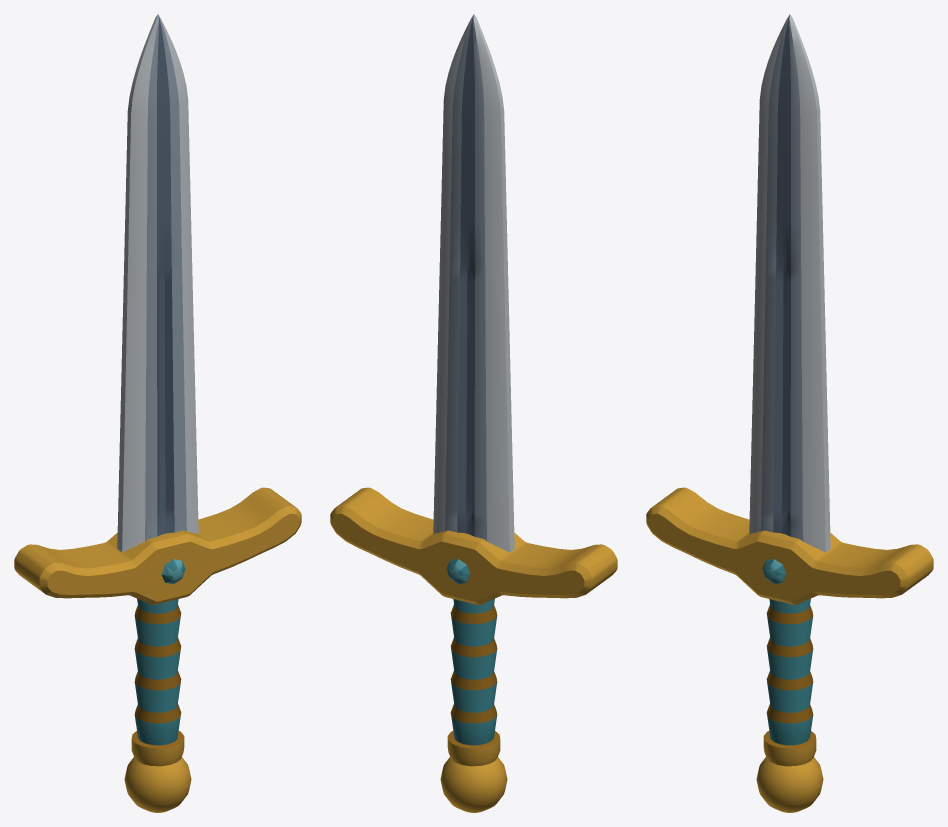
The model's file is Longsword_23.glb.
The picture shows the model from 3 angles, left to right: view 1: azimuth 30°, elevation 25°; view 2: azimuth 150°, elevation 25°; view 3: azimuth 330°, elevation 25°; orthographic projection.
Parts seen in each view (by area): view 1: Longsword_23; view 2: Longsword_23; view 3: Longsword_23.
Part boxes in pixels (box(x1,y1,x2,y2)): Longsword_23: box(14, 14, 301, 812); Longsword_23: box(330, 14, 617, 812); Longsword_23: box(646, 14, 933, 812).
Size of the model in its own units: 2.32 by 6.74 by 0.5908.
